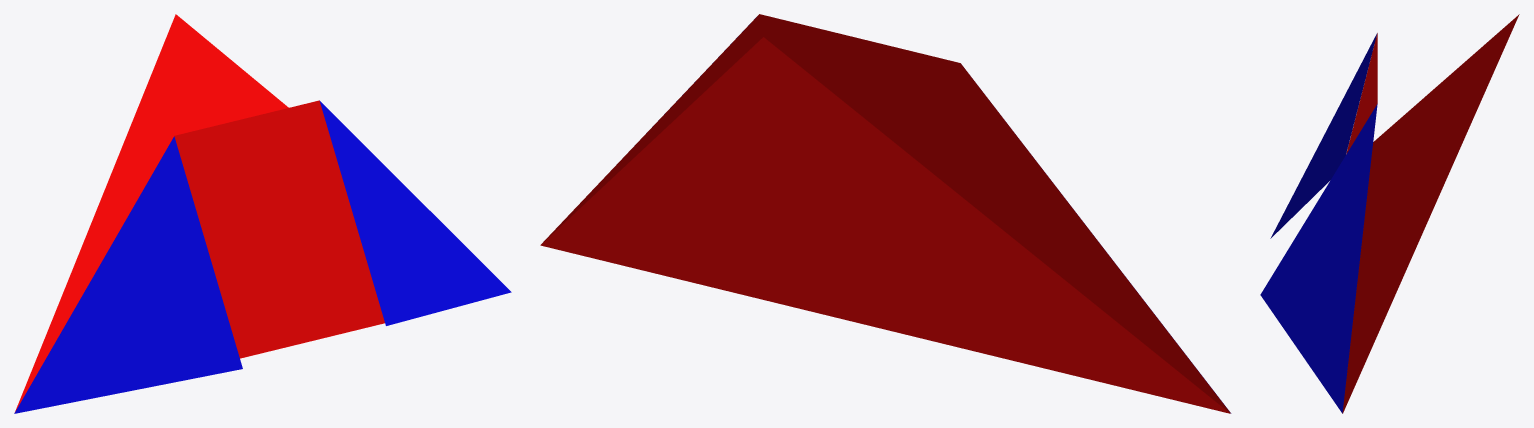
Rendered from letter.glb.
3 renders of one model, left to right at view 1: azimuth 30°, elevation 25°; view 2: azimuth 150°, elevation 25°; view 3: azimuth 270°, elevation 25°, orthographic. The views are drawn at different scales.
Visible parts, largest first — view 1: Plane.002; view 2: Plane.002; view 3: Plane.002.
Part boxes in pixels (left/top/right/bottom): Plane.002: left=14, top=14, right=511, bottom=413; Plane.002: left=540, top=14, right=1231, bottom=413; Plane.002: left=1260, top=14, right=1519, bottom=413.
Size of the model in its own units: 1.29 by 0.6792 by 0.575.
